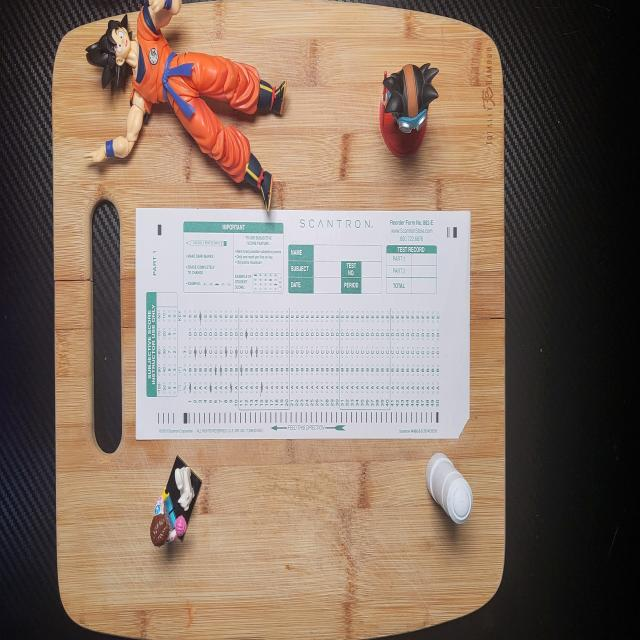scantron: (135, 206, 470, 439)
